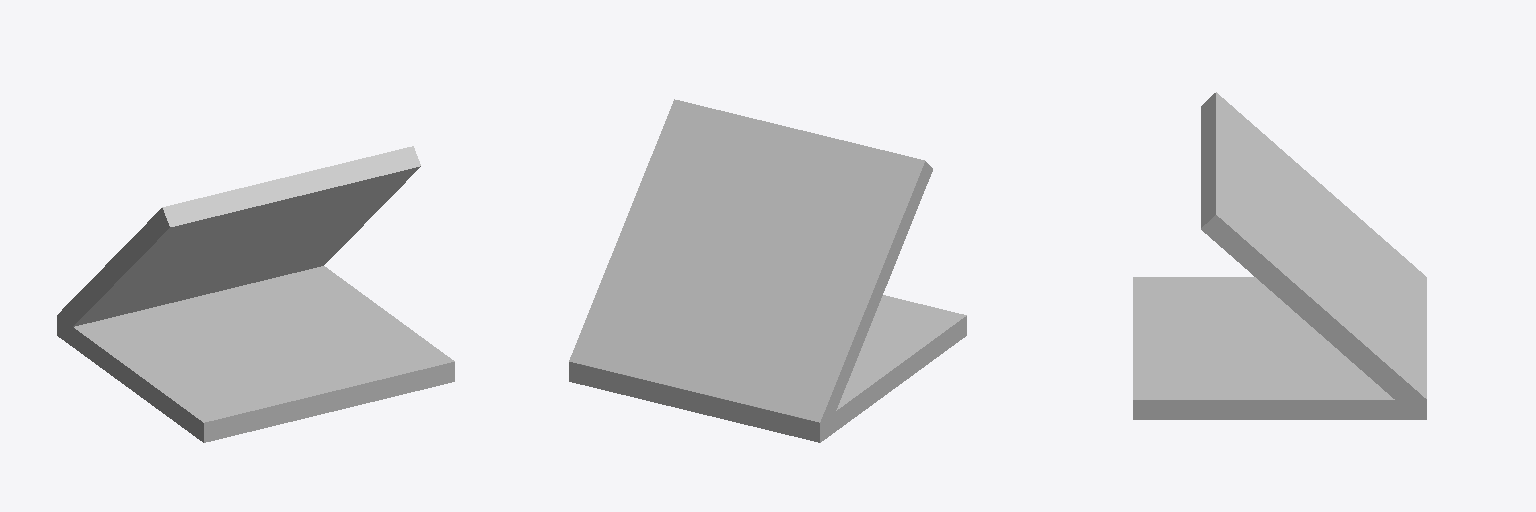
File: prueba3.obj
The picture shows the model from 3 angles: view 1: azimuth 30°, elevation 25°; view 2: azimuth 150°, elevation 25°; view 3: azimuth 270°, elevation 25°; orthographic projection.
Visible parts, largest first — view 1: Cube.001; view 2: Cube.001; view 3: Cube.001.
Boxes of the visible parts, box(x1,y1,x2,y2) form: Cube.001: box(57, 146, 454, 442); Cube.001: box(569, 99, 966, 442); Cube.001: box(1133, 92, 1426, 419).
Bounding box in the file's own units: 0.8107 × 0.6334 × 0.8208.